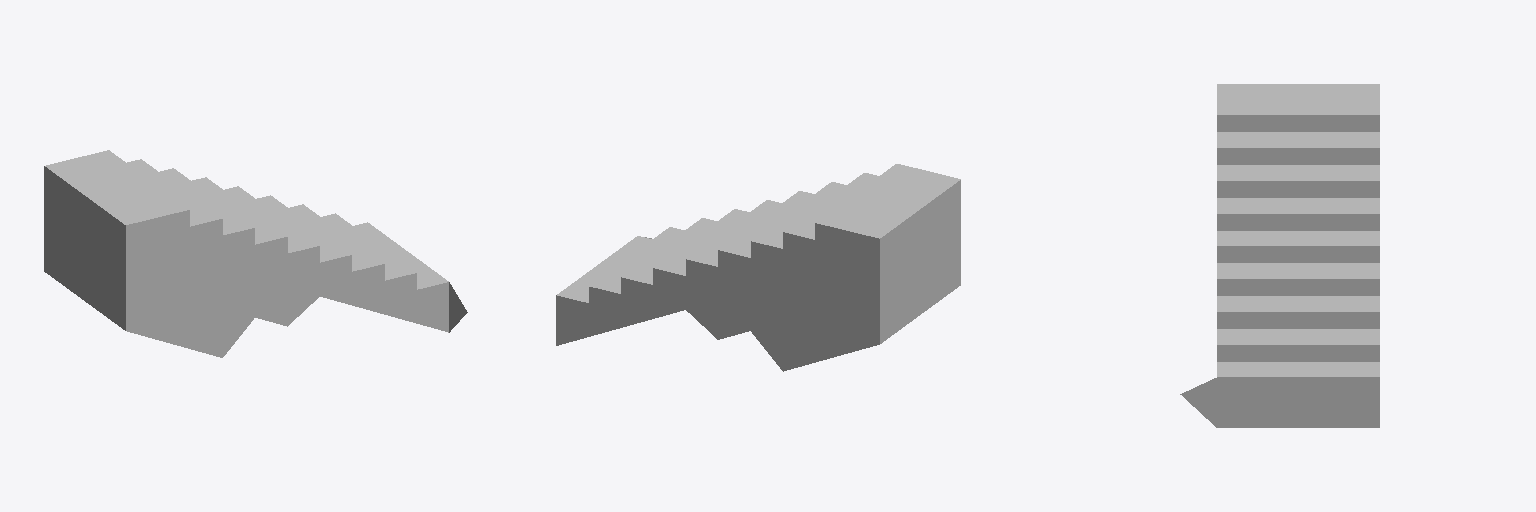
The model's file is Stairs (93).obj.
3 renders of one model, left to right at view 1: azimuth 30°, elevation 25°; view 2: azimuth 150°, elevation 25°; view 3: azimuth 270°, elevation 25°, orthographic.
Parts seen in each view (by area): view 1: Stairs (93); view 2: Stairs (93); view 3: Stairs (93).
Part boxes in pixels (left/top/right/bottom): Stairs (93): left=44, top=150, right=467, bottom=357; Stairs (93): left=556, top=164, right=960, bottom=371; Stairs (93): left=1180, top=84, right=1379, bottom=427.
Size of the model in its own units: 5 by 2.75 by 2.67.